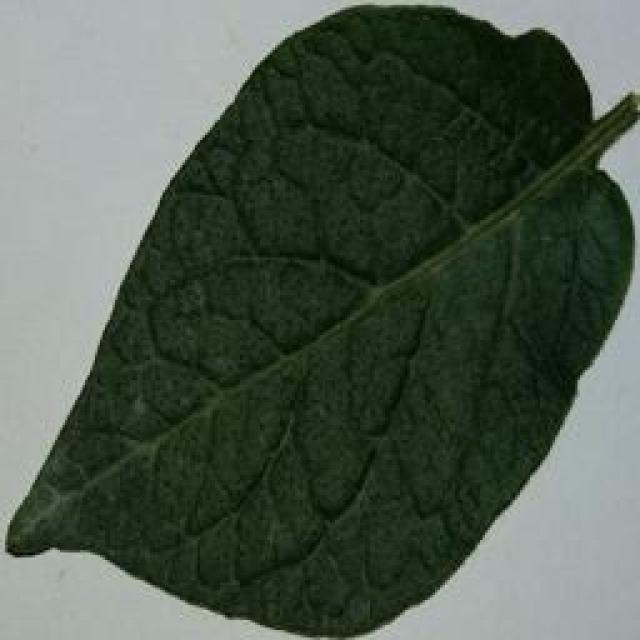Potato_Healthy: (11, 7, 626, 634)
